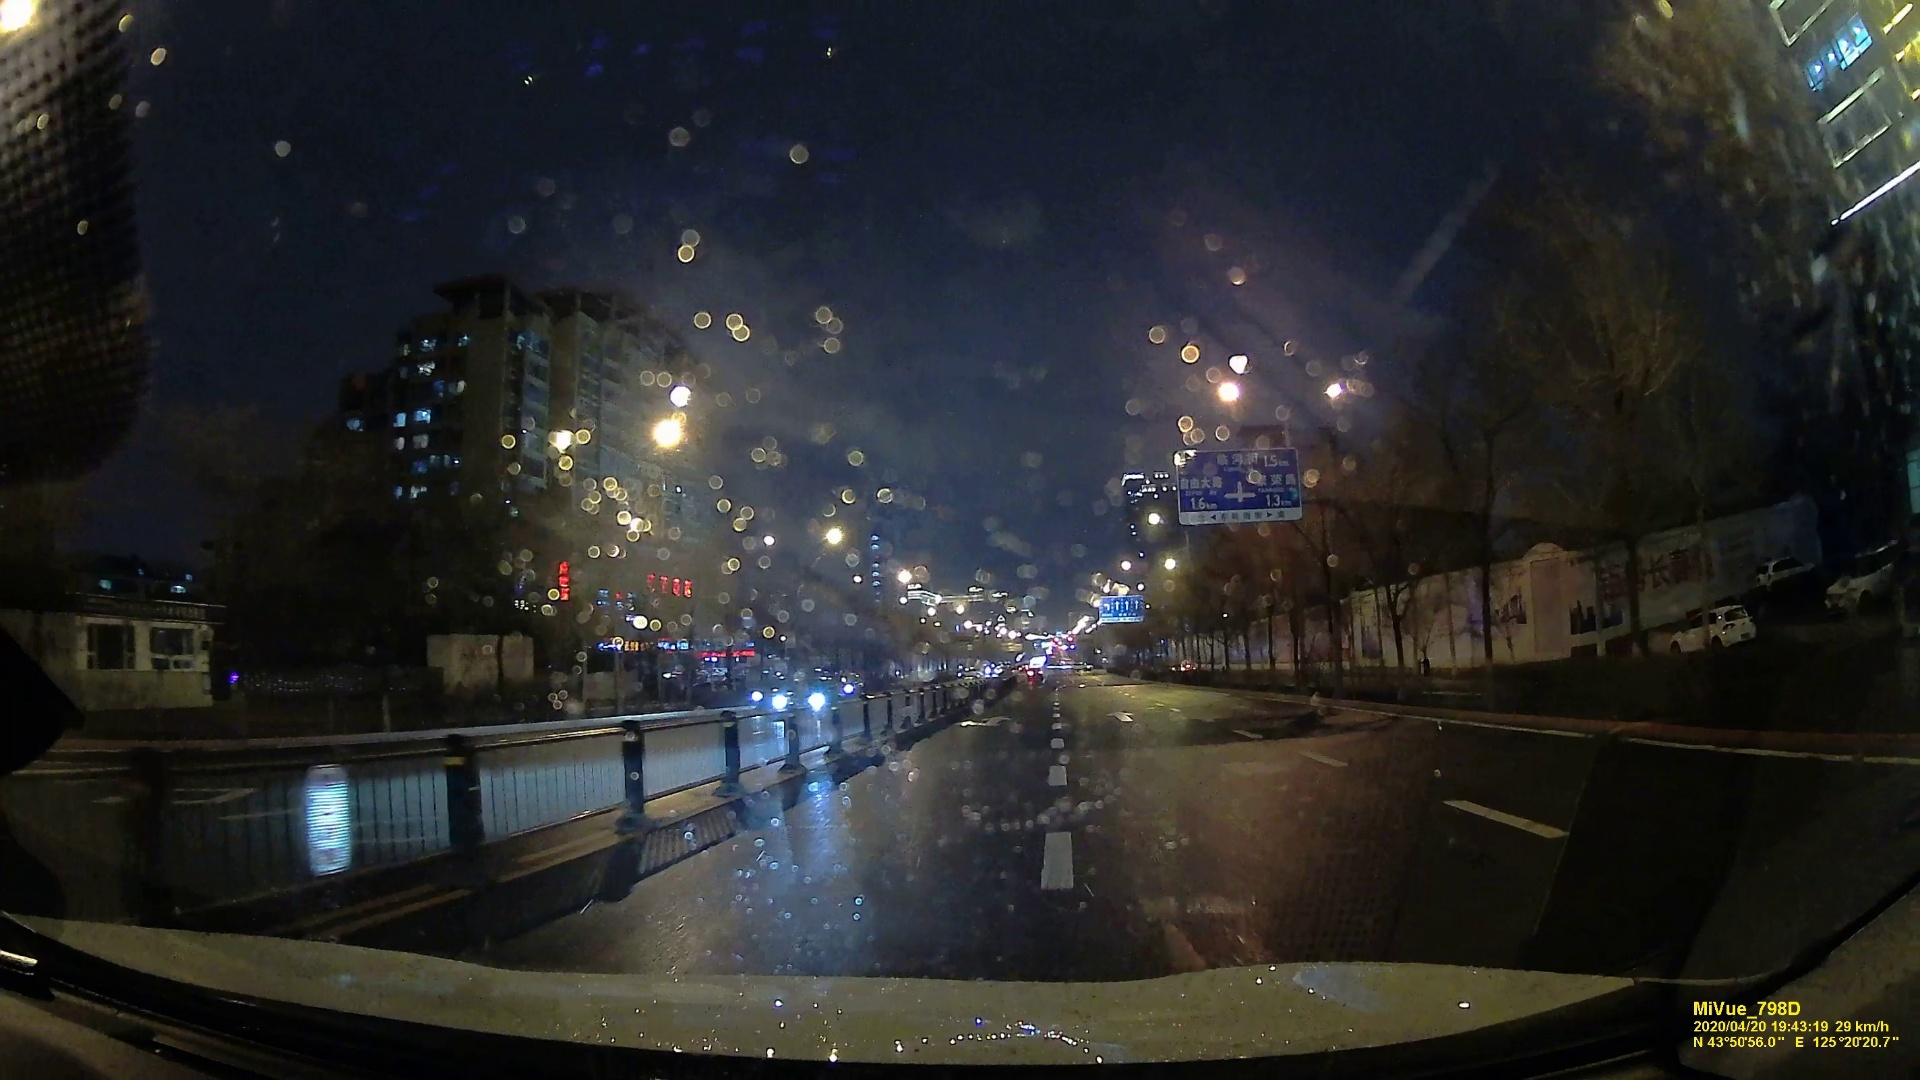traffic_sign: (1179, 455, 1302, 520), (1104, 595, 1141, 625)
vehicle: (773, 683, 829, 717)
